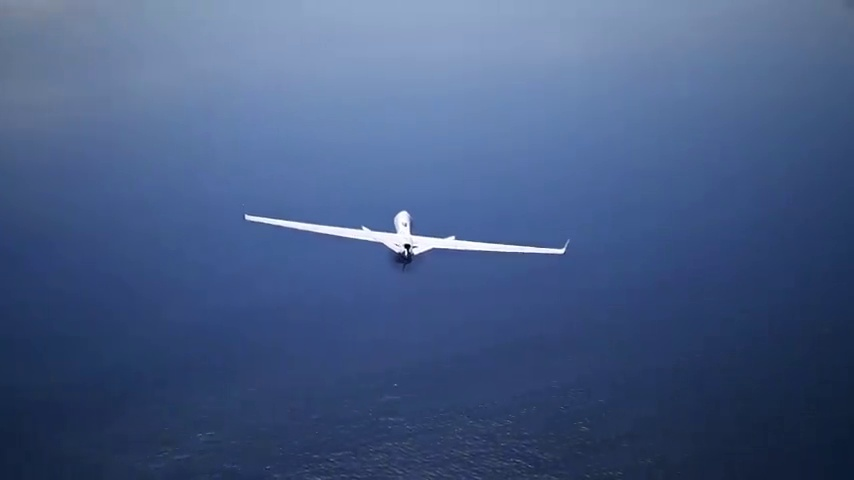military drone: (241, 209, 570, 271)
